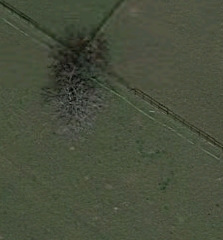tree: (41, 63, 109, 146)
